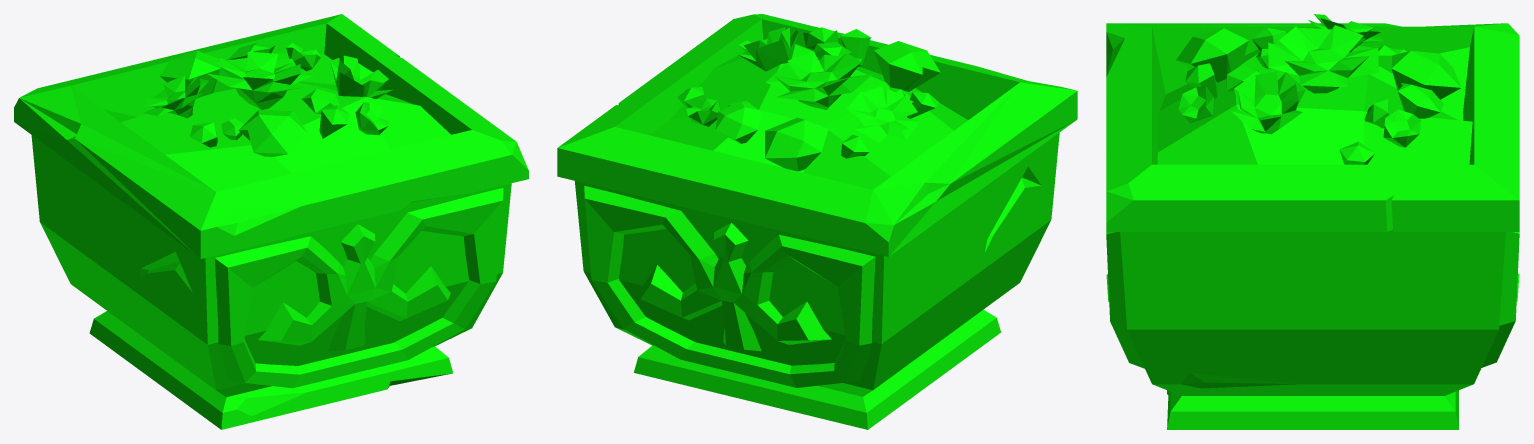
The model's file is SM_Flower_Box_Stone_Square_Street_B_Fantasy.fbx.
3 renders of one model, left to right at view 1: azimuth 30°, elevation 25°; view 2: azimuth 150°, elevation 25°; view 3: azimuth 270°, elevation 25°, orthographic. The views are drawn at different scales.
Visible parts, largest first — view 1: flower-box-stone-square-street-b-fantasy; view 2: flower-box-stone-square-street-b-fantasy; view 3: flower-box-stone-square-street-b-fantasy.
Part boxes in pixels (x1,y1,x2,y2): flower-box-stone-square-street-b-fantasy: (14,14,528,429); flower-box-stone-square-street-b-fantasy: (557,14,1077,429); flower-box-stone-square-street-b-fantasy: (1106,14,1519,429).
Bounding box in the file's own units: 0.5788 × 0.4933 × 0.5706.
